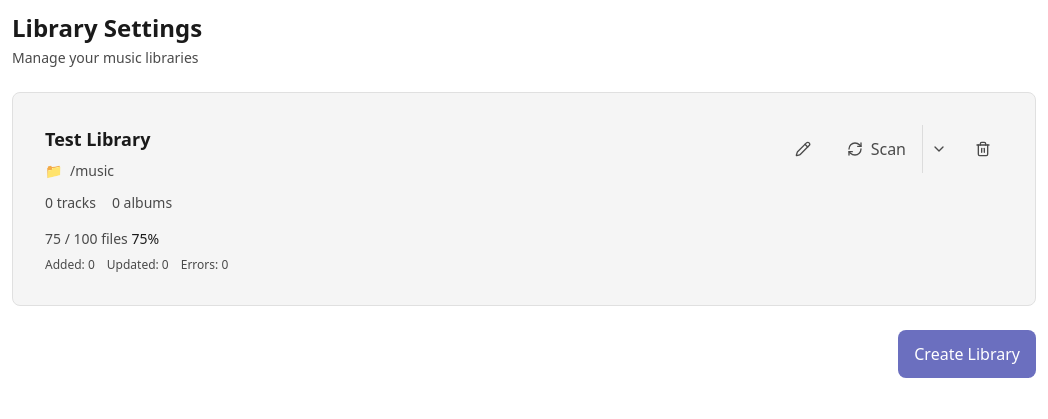
it: Library Scan Progress › should display current file being processed
Note: Start scan and send progress
Click the button with test id "scan-library-button-1": [876, 149] box [831,125,922,173]
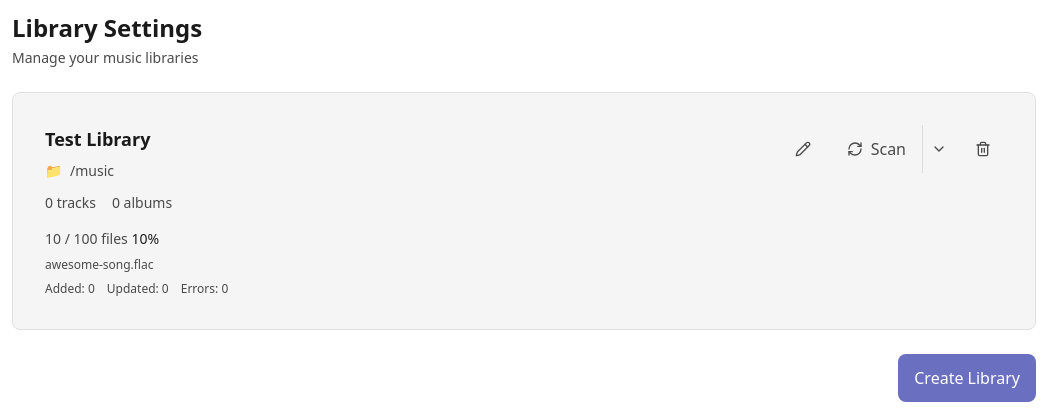
Expected: the text with test id "scan-progress-current-file-1" reads "awesome-song.flac", [45,256,154,273]
